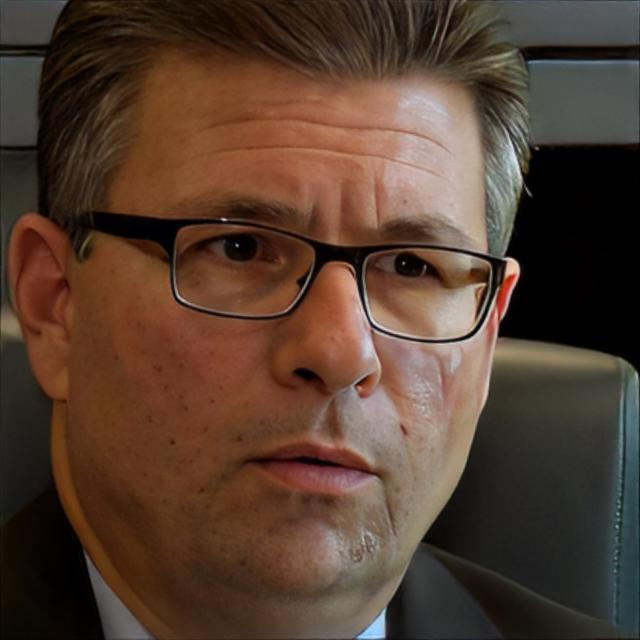anger: (80, 51, 494, 604)
